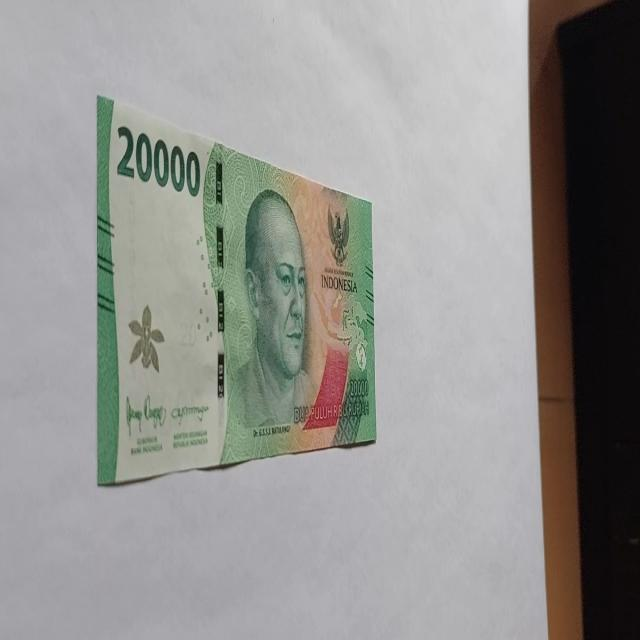dua puluh ribu rupiah: (95, 94, 377, 486), (217, 186, 349, 465)
